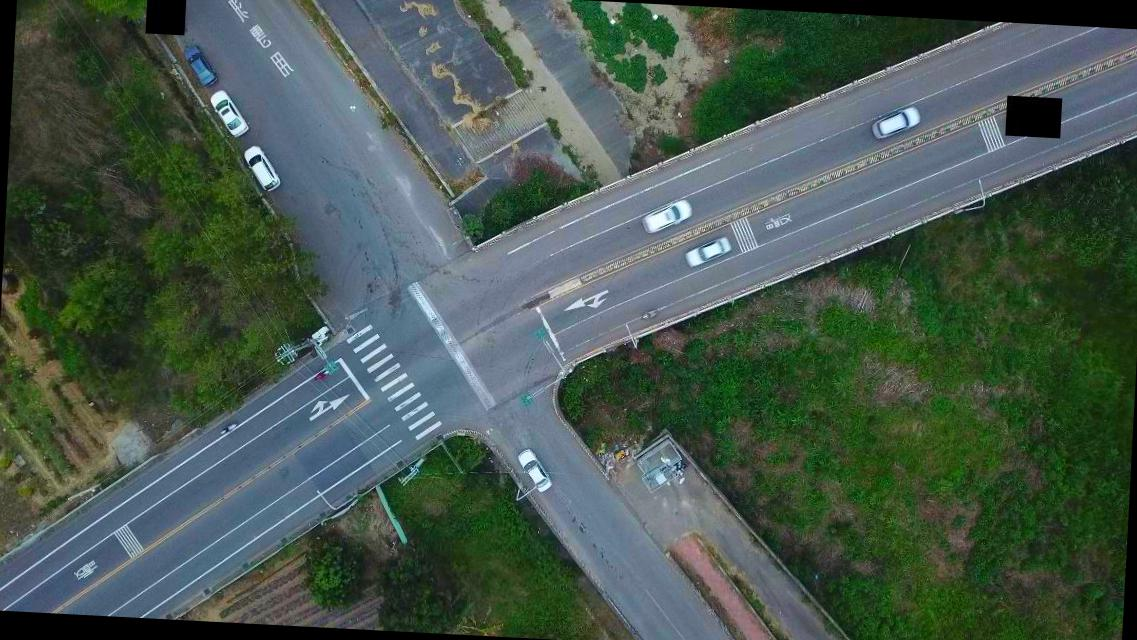vehicle: (638, 195, 692, 238), (238, 144, 282, 194), (206, 89, 249, 139), (867, 104, 920, 144), (515, 446, 554, 494), (683, 236, 730, 272), (181, 44, 218, 88)
